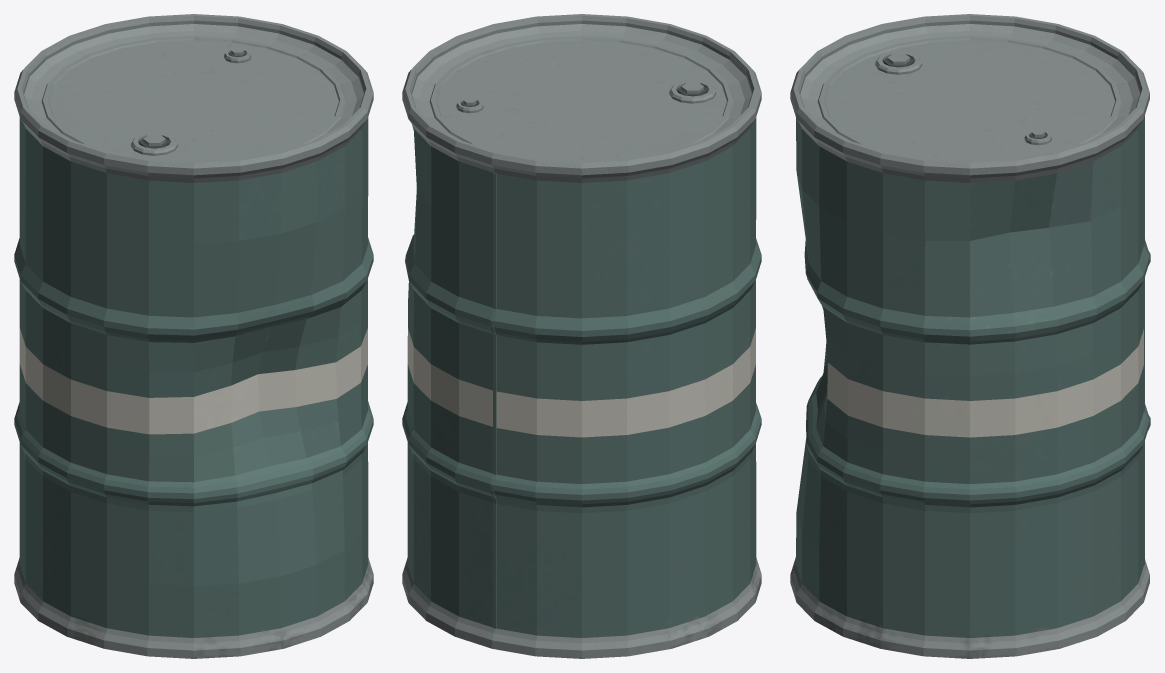
Rendered from oil_drum_dented.glb.
The picture shows the model from 3 angles, left to right: view 1: azimuth 30°, elevation 25°; view 2: azimuth 150°, elevation 25°; view 3: azimuth 270°, elevation 25°; orthographic projection.
Visible parts, largest first — view 1: OilDrumDented; view 2: OilDrumDented; view 3: OilDrumDented.
Part boxes in pixels (x1,y1,x2,y2): OilDrumDented: (14,14,373,658); OilDrumDented: (402,14,761,658); OilDrumDented: (790,14,1150,658).
Size of what is drawn, in the model's own units: 0.58 by 0.88 by 0.5812.
1 material, 1 textured.
